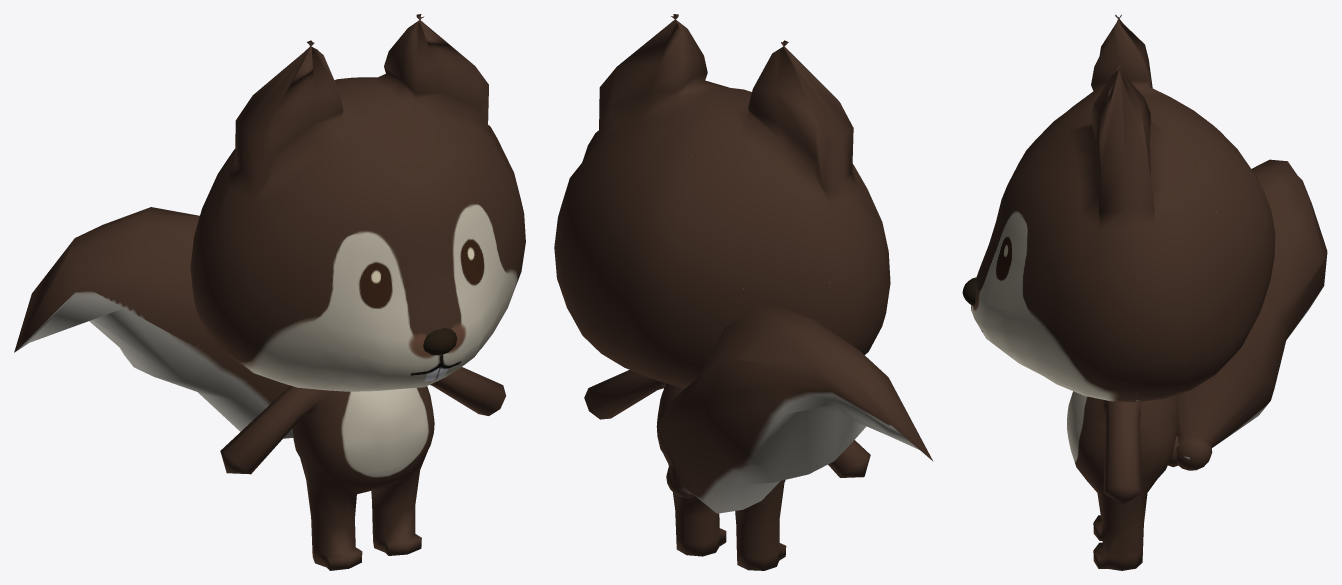
File: Jaber_squirrel.glb
3 renders of one model, left to right at view 1: azimuth 30°, elevation 25°; view 2: azimuth 150°, elevation 25°; view 3: azimuth 270°, elevation 25°, orthographic. The views are drawn at different scales.
Parts seen in each view (by area): view 1: Squirrel head, Squirrel tail, Squirrel torso, Squirrel nose; view 2: Squirrel head, Squirrel tail, Squirrel torso; view 3: Squirrel head, Squirrel tail, Squirrel torso.
Part boxes in pixels (x1,y1,x2,y2): Squirrel head: [190, 14, 525, 391]; Squirrel tail: [14, 207, 293, 438]; Squirrel torso: [220, 367, 505, 570]; Squirrel nose: [423, 328, 456, 355]; Squirrel head: [554, 14, 890, 388]; Squirrel tail: [657, 307, 933, 513]; Squirrel torso: [584, 370, 870, 570]; Squirrel head: [971, 14, 1275, 401]; Squirrel tail: [1175, 159, 1327, 470]; Squirrel torso: [1067, 391, 1179, 570].
Size of the model in its own units: 2.75 by 3.2 by 2.08.
4 materials, 3 textured.
